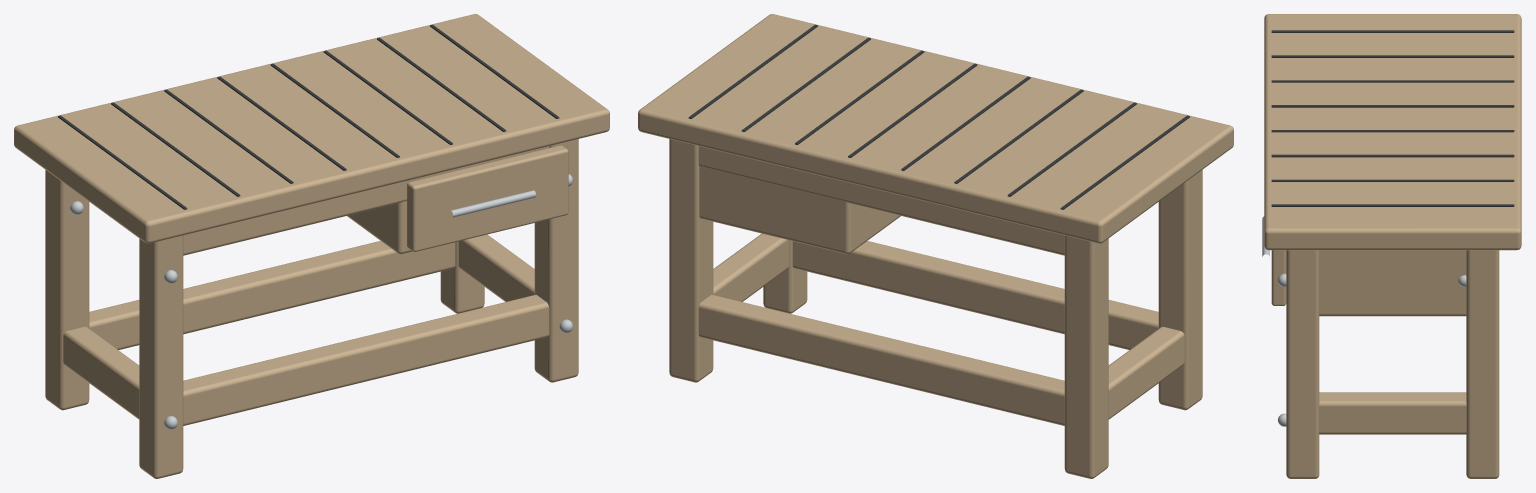
File: textile-weaving-and-dye-workshop-order-desk-42886a26__29578.glb
3 views of the same model, side by side, from view 1: azimuth 30°, elevation 25°; view 2: azimuth 150°, elevation 25°; view 3: azimuth 270°, elevation 25° (orthographic). The views are drawn at different scales.
Visible parts, largest first — view 1: order-desk; view 2: order-desk; view 3: order-desk.
Boxes of the visible parts, <box> form: order-desk: <box>14,14,609,478</box>; order-desk: <box>638,14,1233,478</box>; order-desk: <box>1262,14,1521,478</box>.
Bounding box in the file's own units: 1.4 × 0.785 × 0.7051.
